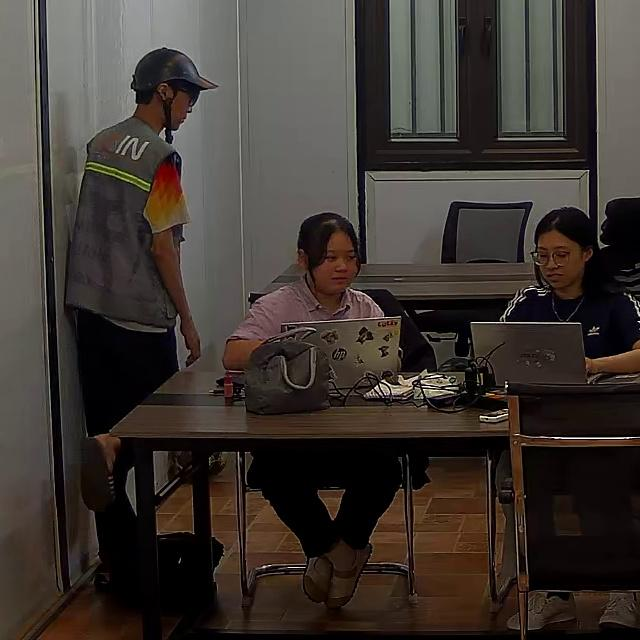helmet: (130, 46, 218, 97)
no_helmet: (531, 205, 608, 293), (296, 212, 361, 285)
none: (226, 275, 383, 366), (498, 284, 639, 363)
vest: (63, 115, 191, 326)
